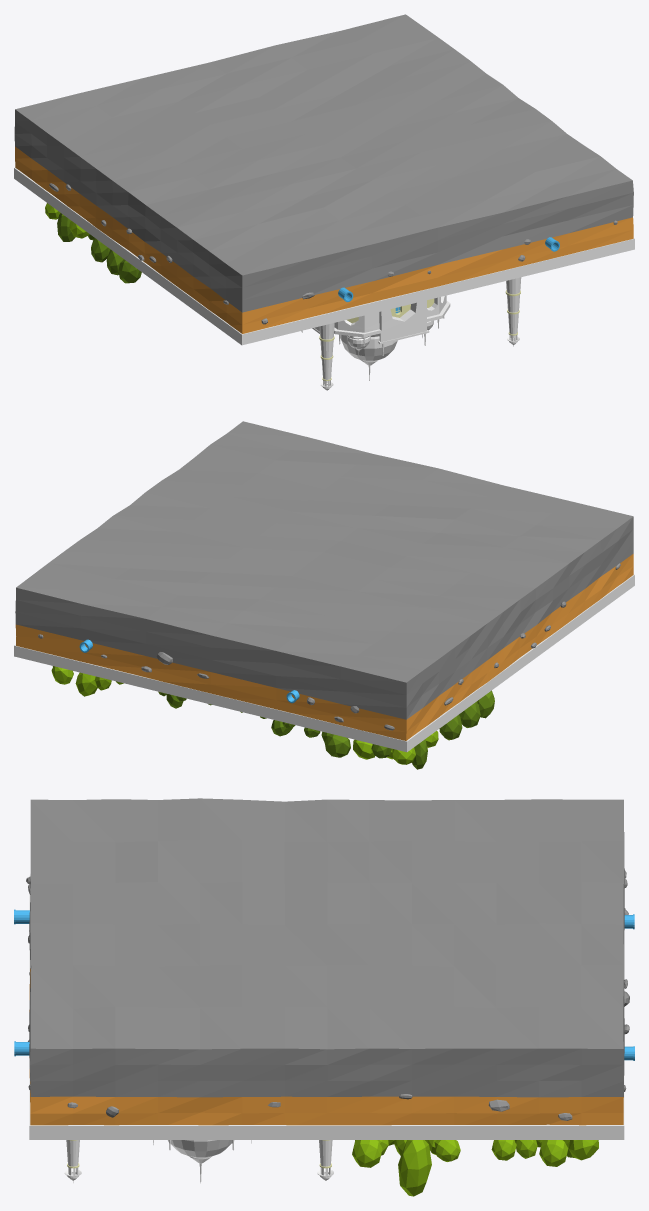
File: tajMajal.FBX
The picture shows the model from 3 angles, top to bottom: view 1: azimuth 30°, elevation 25°; view 2: azimuth 150°, elevation 25°; view 3: azimuth 270°, elevation 25°; orthographic projection. The views are drawn at different scales.
Visible parts, largest first — view 1: tajMajal; view 2: tajMajal; view 3: tajMajal.
Part boxes in pixels (bbox=[...]): tajMajal: bbox=[14, 14, 634, 390]; tajMajal: bbox=[14, 421, 634, 769]; tajMajal: bbox=[14, 798, 634, 1196].
Bounding box in the file's own units: 12271 × 12679 × 5909.
